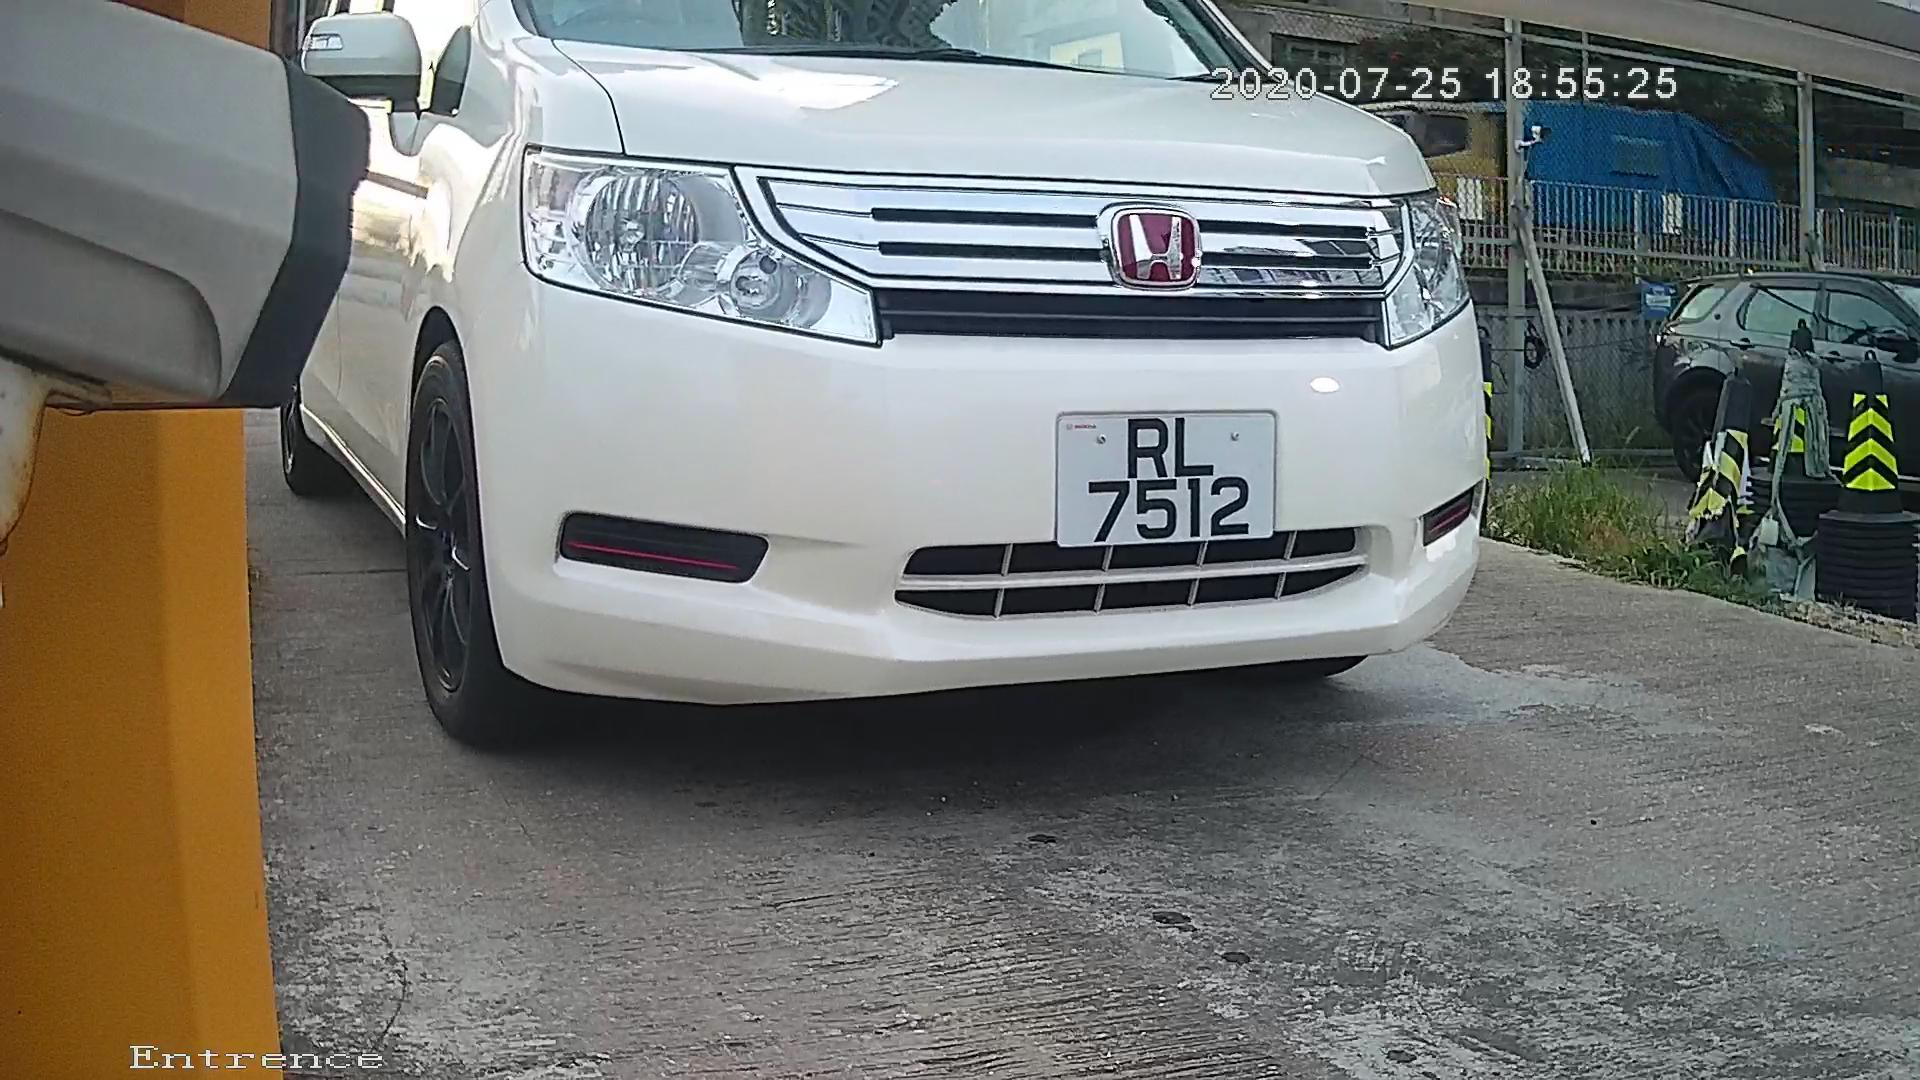License Plate: (1038, 406, 1295, 565)
